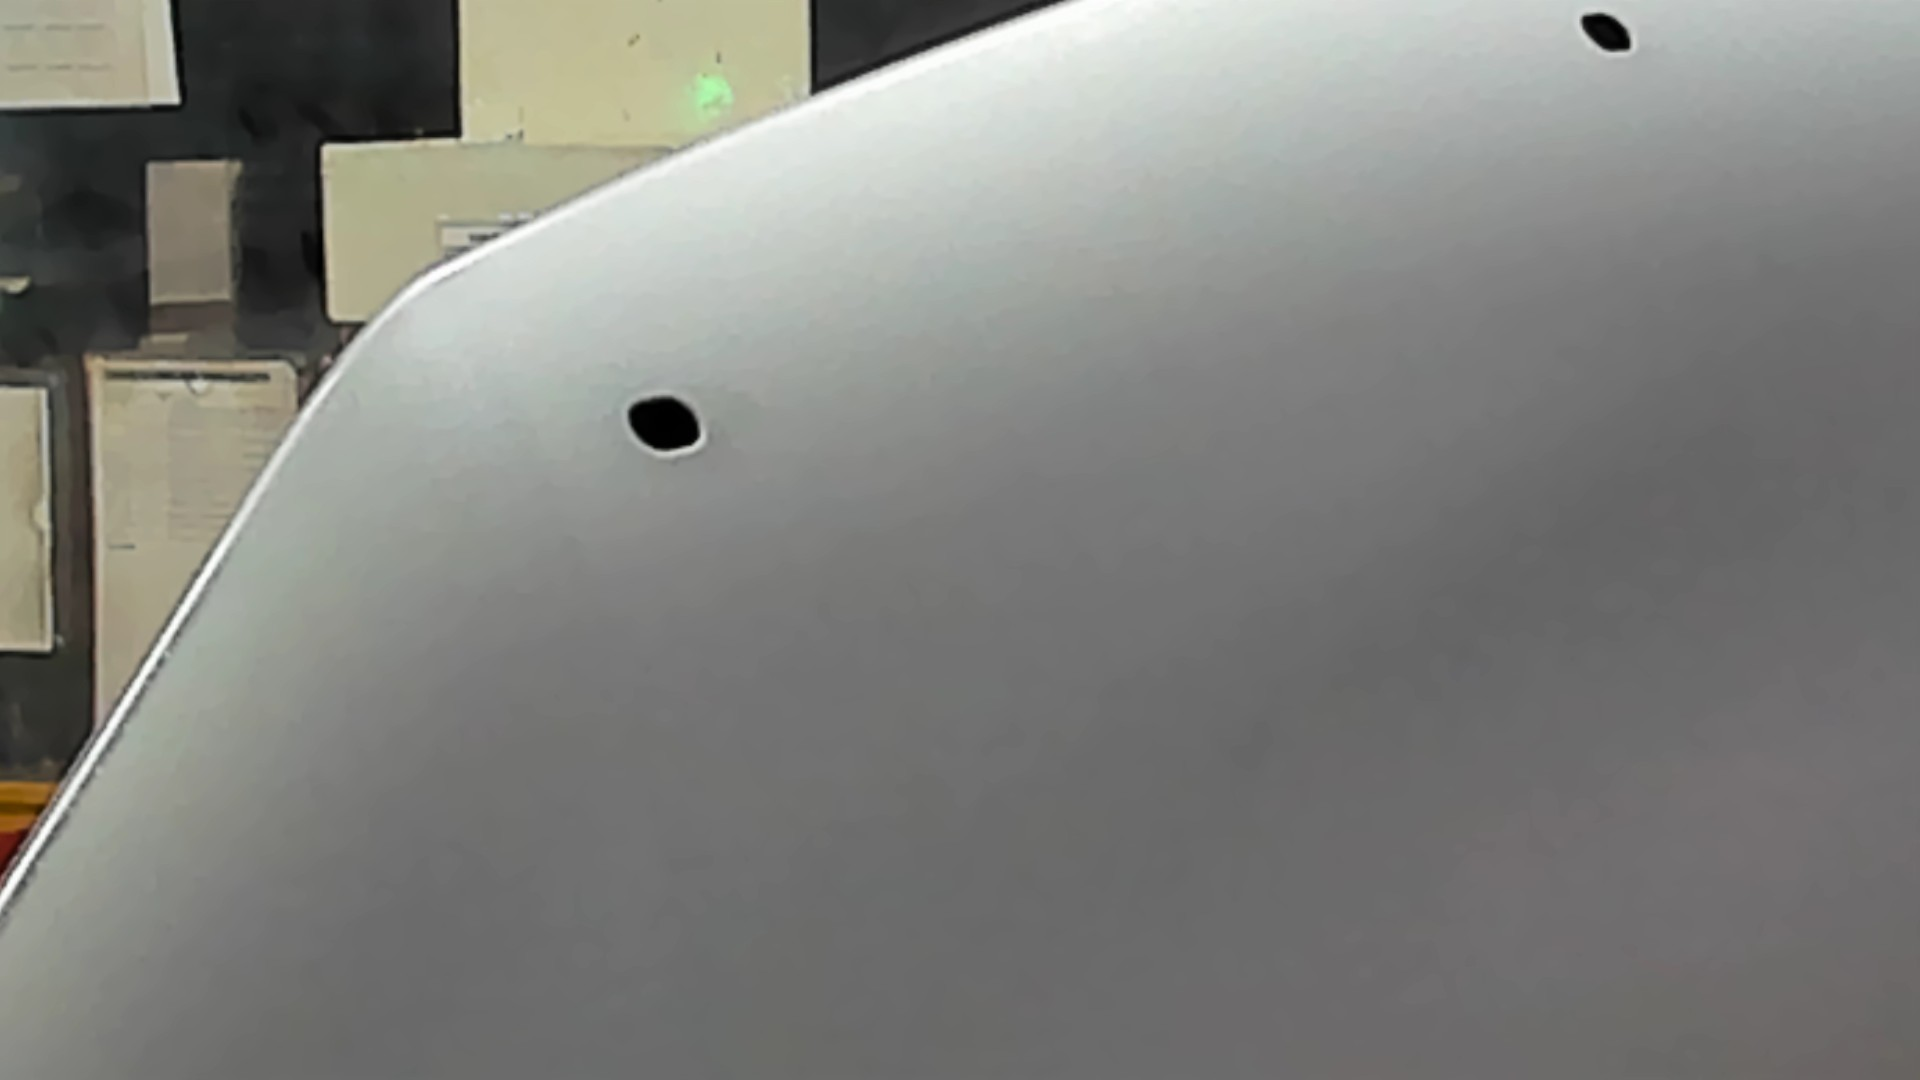chico: (609, 378, 729, 468), (1557, 1, 1659, 67)
